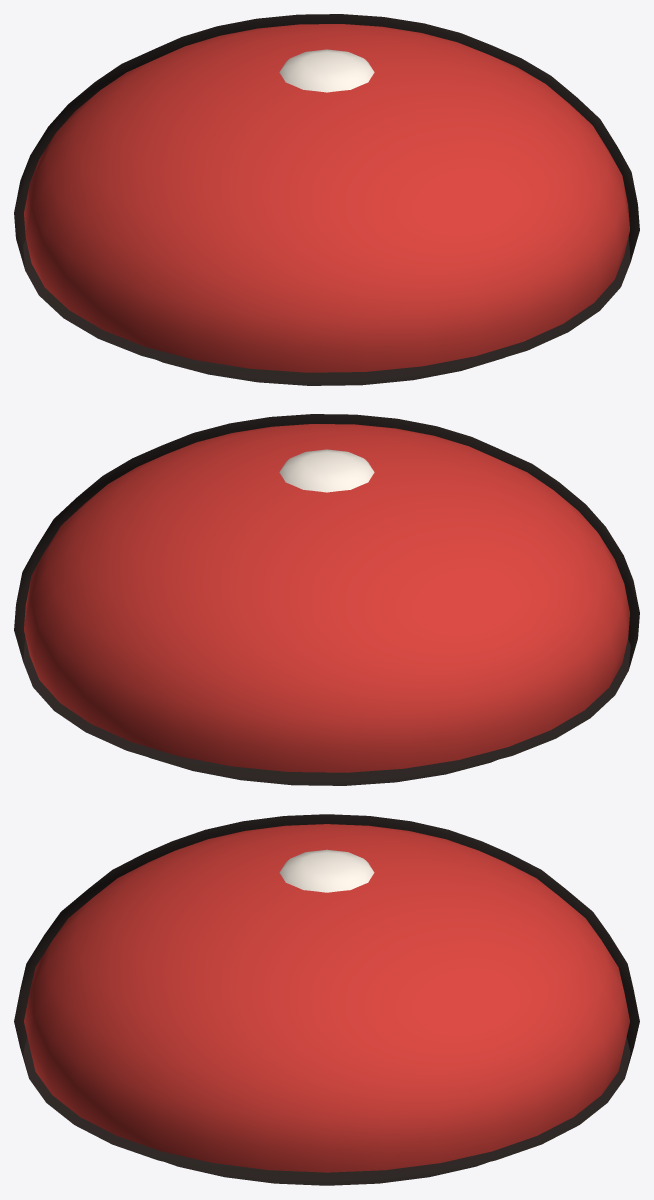
The model's file is hat_mushroom.fbx.
3 renders of one model, top to bottom at view 1: azimuth 30°, elevation 25°; view 2: azimuth 150°, elevation 25°; view 3: azimuth 270°, elevation 25°, orthographic.
Parts seen in each view (by area): view 1: hat_mushroom_C_D9413A, hat_mushroom_Outline, hat_mushroom_C_FFF6EA; view 2: hat_mushroom_C_D9413A, hat_mushroom_Outline, hat_mushroom_C_FFF6EA; view 3: hat_mushroom_C_D9413A, hat_mushroom_Outline, hat_mushroom_C_FFF6EA.
Part boxes in pixels (<box>): hat_mushroom_C_D9413A: <box>24,24,629,372</box>; hat_mushroom_Outline: <box>14,14,639,385</box>; hat_mushroom_C_FFF6EA: <box>279,49,374,92</box>; hat_mushroom_C_D9413A: <box>24,424,629,772</box>; hat_mushroom_Outline: <box>14,414,639,785</box>; hat_mushroom_C_FFF6EA: <box>279,449,374,492</box>; hat_mushroom_C_D9413A: <box>24,824,629,1172</box>; hat_mushroom_Outline: <box>14,814,639,1185</box>; hat_mushroom_C_FFF6EA: <box>279,849,374,892</box>.
Bounding box in the file's own units: 0.888 × 0.3392 × 0.888.
